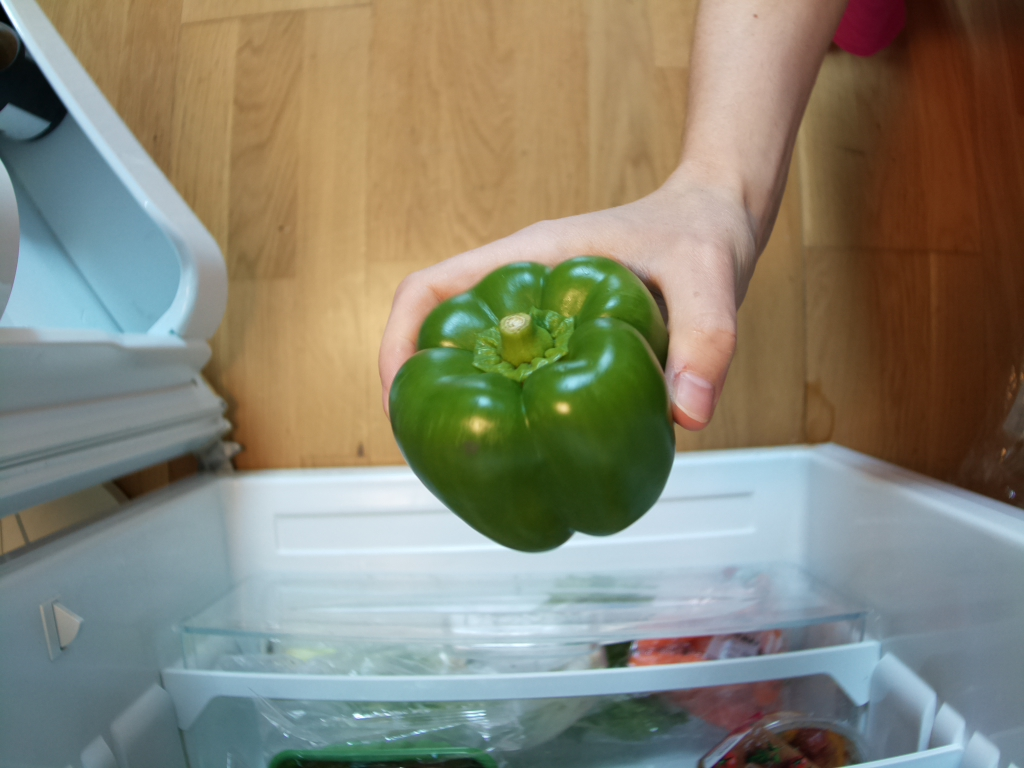pepper: (389, 253, 680, 556)
